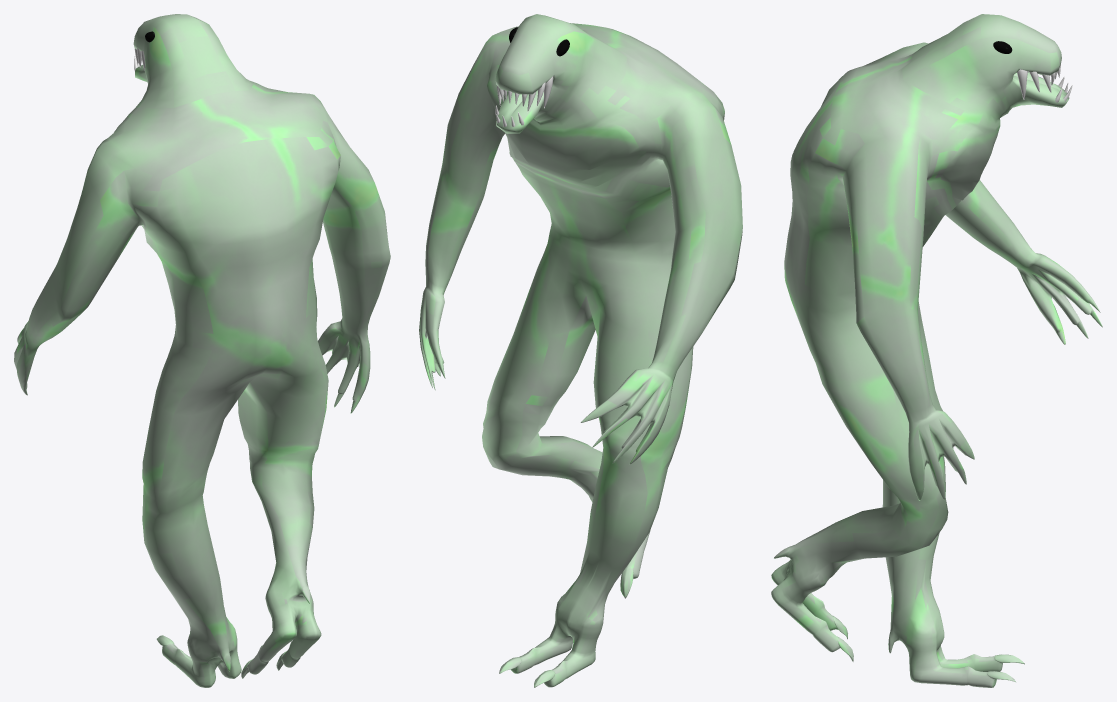
File: Berserkerandar.0078.obj
3 renders of one model, left to right at view 1: azimuth 30°, elevation 25°; view 2: azimuth 150°, elevation 25°; view 3: azimuth 270°, elevation 25°, orthographic. The views are drawn at different scales.
Parts seen in each view (by area): view 1: polySurface27; view 2: polySurface27; view 3: polySurface27.
Part boxes in pixels (left/top/right/bottom): polySurface27: left=14, top=14, right=390, bottom=687; polySurface27: left=419, top=14, right=742, bottom=687; polySurface27: left=771, top=14, right=1102, bottom=687.
Size of the model in its own units: 11.79 by 23.84 by 10.87.
Materials: 1 (1 with a texture image).
